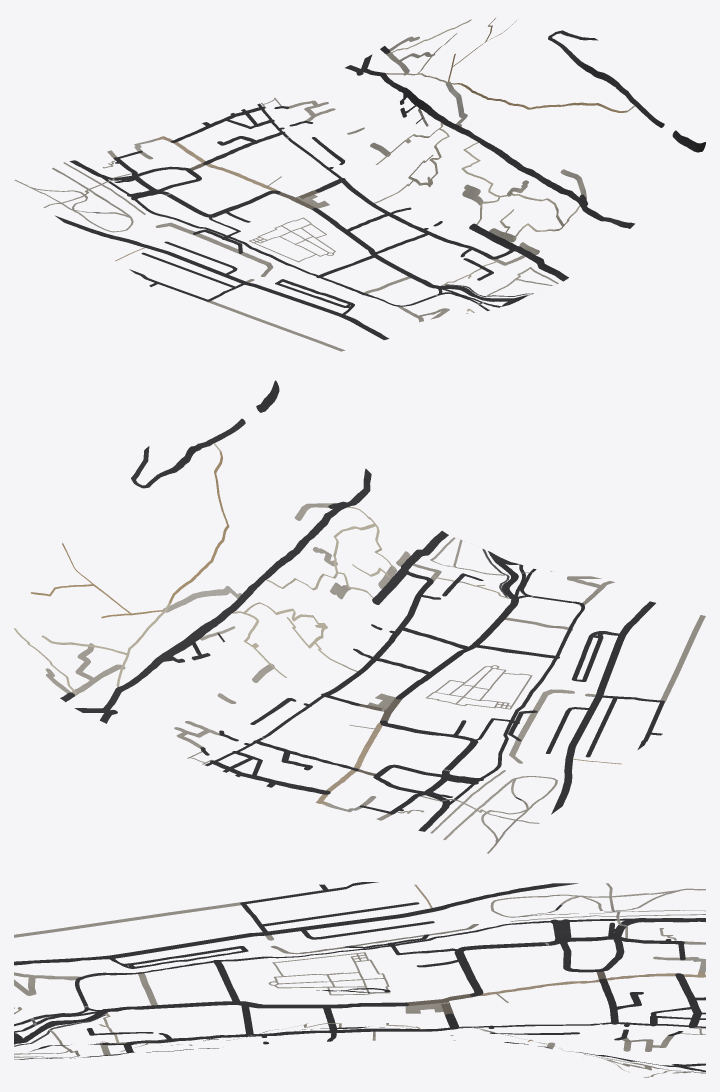
Rendered from roads.glb.
The picture shows the model from 3 angles, top to bottom: view 1: azimuth 30°, elevation 25°; view 2: azimuth 150°, elevation 25°; view 3: azimuth 270°, elevation 25°; orthographic projection. The views are drawn at different scales.
Parts seen in each view (by area): view 1: T_W1_N1_roads; view 2: T_W1_N1_roads; view 3: T_W1_N1_roads.
Part boxes in pixels (x1,y1,x2,y2): T_W1_N1_roads: [14, 18, 705, 351]; T_W1_N1_roads: [14, 380, 705, 853]; T_W1_N1_roads: [14, 882, 705, 1077].
Size of the model in its own units: 500 by 149 by 500.
